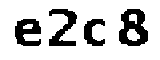2: (47, 4, 78, 51)
8: (117, 5, 151, 49)
c: (80, 16, 106, 48)
e: (11, 17, 44, 48)
